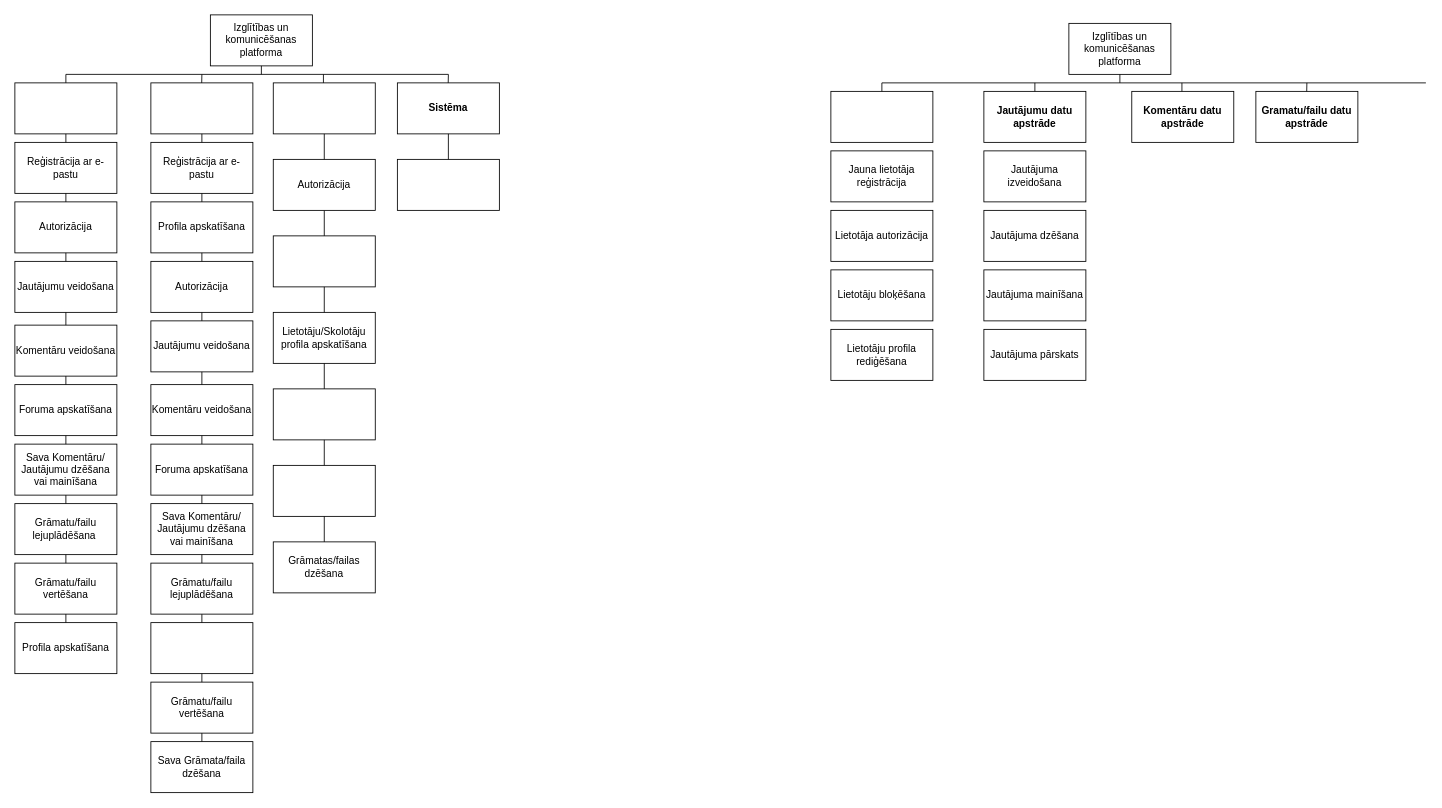
This 1442x808 diagram has some shape labels left out. The shapes that lost their labels are listed below. From the top down, each one's centre as x and y in pixels, then its label:
point (65, 108): Lietotājas
point (201, 108): Skolotājs
point (323, 108): Administrātors
point (881, 116): Lietotāju datu apstrāde
point (448, 184): Lietotāja paroles atjaunošana
point (323, 261): Lietotāju vai skolotāju bloķešana
point (323, 414): Lietotāju/Skolotāju profila dzēšana
point (323, 490): Lietotāju/Skolotāju komentāru/jautājumu dzēšana
point (201, 648): Grāmatu/failu lejuplādēšana uz vietni
